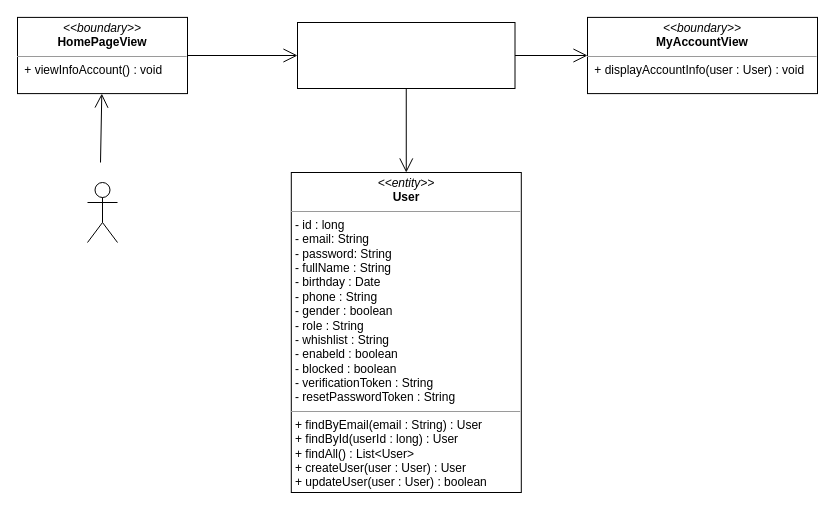
Image size: 835x511. Some labels were removed from this diagram. Here are the shapes that lost their labels. From the top down, the box of each, then its label:
(296, 22, 515, 88): <<control>> AccountController + getInfoAccount(userId : long) : User
(86, 182, 118, 242): Người dùng
